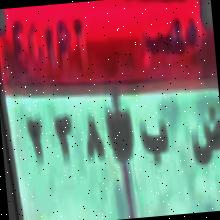2: (26, 109, 48, 170)
3: (52, 108, 79, 170)
8: (80, 111, 106, 167)
baa: (138, 112, 172, 170)
daad: (188, 104, 220, 166)
